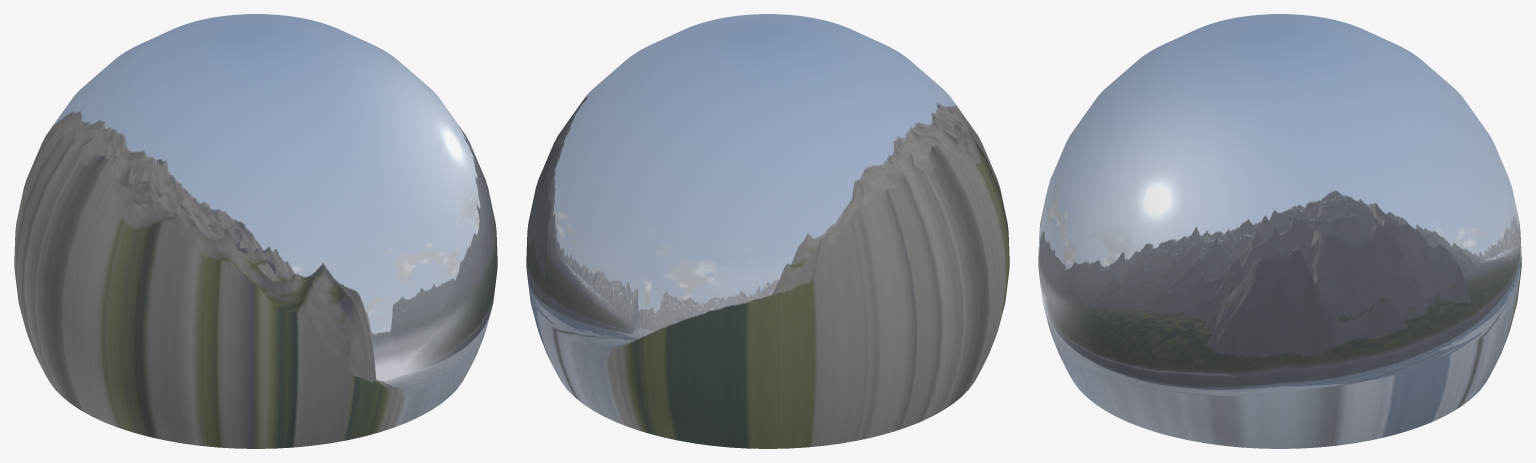
File: mer_de_glace.gltf
3 renders of one model, left to right at view 1: azimuth 30°, elevation 25°; view 2: azimuth 150°, elevation 25°; view 3: azimuth 270°, elevation 25°, orthographic.
Visible parts, largest first — view 1: SkyDome.back, SkyDome.front; view 2: SkyDome.front, SkyDome.back; view 3: SkyDome.back, SkyDome.front.
Boxes of the visible parts, box(x1,y1,x2,y2) form: SkyDome.back: box(46, 30, 497, 448); SkyDome.front: box(14, 14, 391, 403); SkyDome.front: box(526, 30, 977, 448); SkyDome.back: box(632, 14, 1009, 403); SkyDome.back: box(1038, 14, 1279, 448); SkyDome.front: box(1280, 14, 1521, 448).
Bounding box in the file's own units: 2298 × 1690 × 2298.
Materials: 10 (10 with a texture image).
